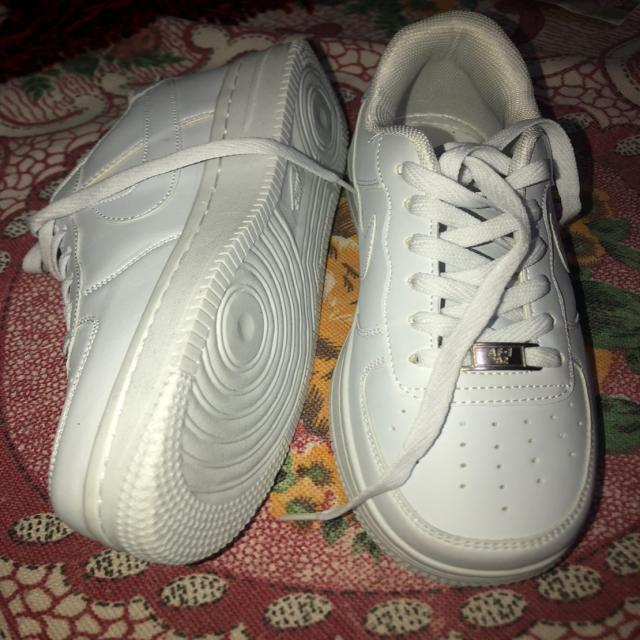nike fake air force: (22, 17, 350, 564), (332, 7, 604, 584)
